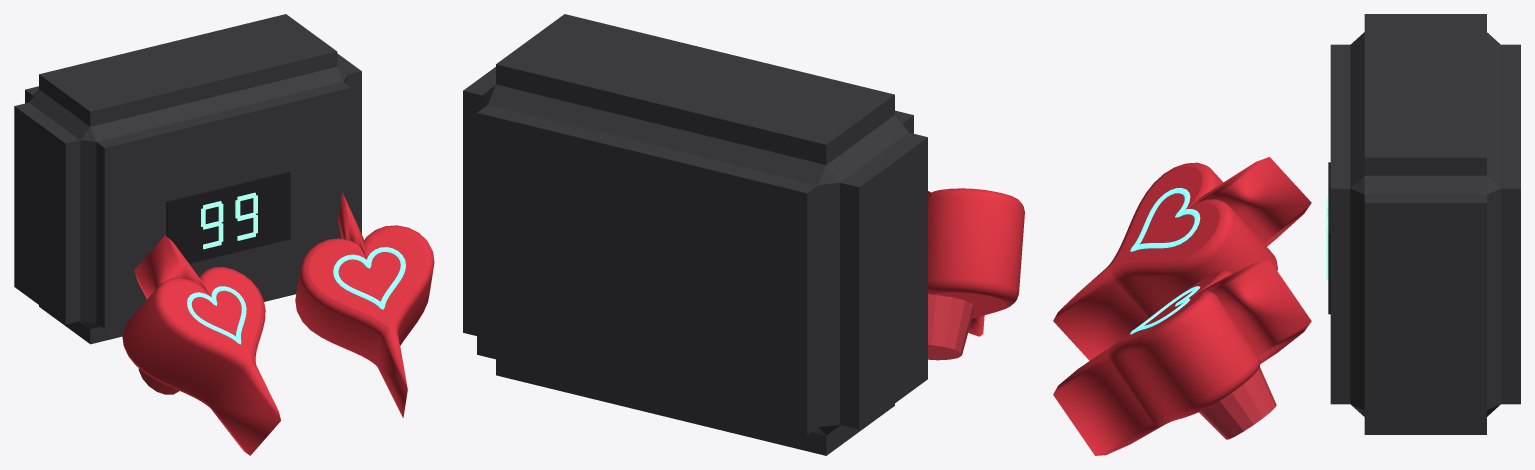
Rendered from HeartEarbudsRed.glb.
3 views of the same model, side by side, from view 1: azimuth 30°, elevation 25°; view 2: azimuth 150°, elevation 25°; view 3: azimuth 270°, elevation 25° (orthographic). The views are drawn at different scales.
Visible parts, largest first — view 1: CaseBody, Earbud_L_Shell, Earbud_R_Shell, CaseScreen, Earbud_R_Ring, Earbud_L_Ring; view 2: CaseBody, Earbud_L_Shell, Earbud_L_Tip; view 3: CaseBody, Earbud_R_Shell, Earbud_L_Shell, Earbud_R_Tip, Earbud_L_Ring, Earbud_R_Ring.
Boxes of the visible parts, <box> form: CaseBody: <box>14,14,361,344</box>; Earbud_L_Shell: <box>122,235,280,455</box>; Earbud_R_Shell: <box>295,192,434,417</box>; CaseScreen: <box>166,171,290,263</box>; Earbud_R_Ring: <box>333,247,405,309</box>; Earbud_L_Ring: <box>187,286,246,344</box>; CaseBody: <box>463,14,927,455</box>; Earbud_L_Shell: <box>928,188,1024,336</box>; Earbud_L_Tip: <box>928,293,974,360</box>; CaseBody: <box>1330,14,1520,434</box>; Earbud_R_Shell: <box>1053,260,1311,455</box>; Earbud_L_Shell: <box>1053,157,1311,360</box>; Earbud_R_Tip: <box>1199,367,1276,439</box>; Earbud_L_Ring: <box>1130,188,1200,251</box>; Earbud_R_Ring: <box>1130,286,1200,334</box>.
Bounding box in the file's own units: 0.0606 × 0.0528 × 0.0688.
